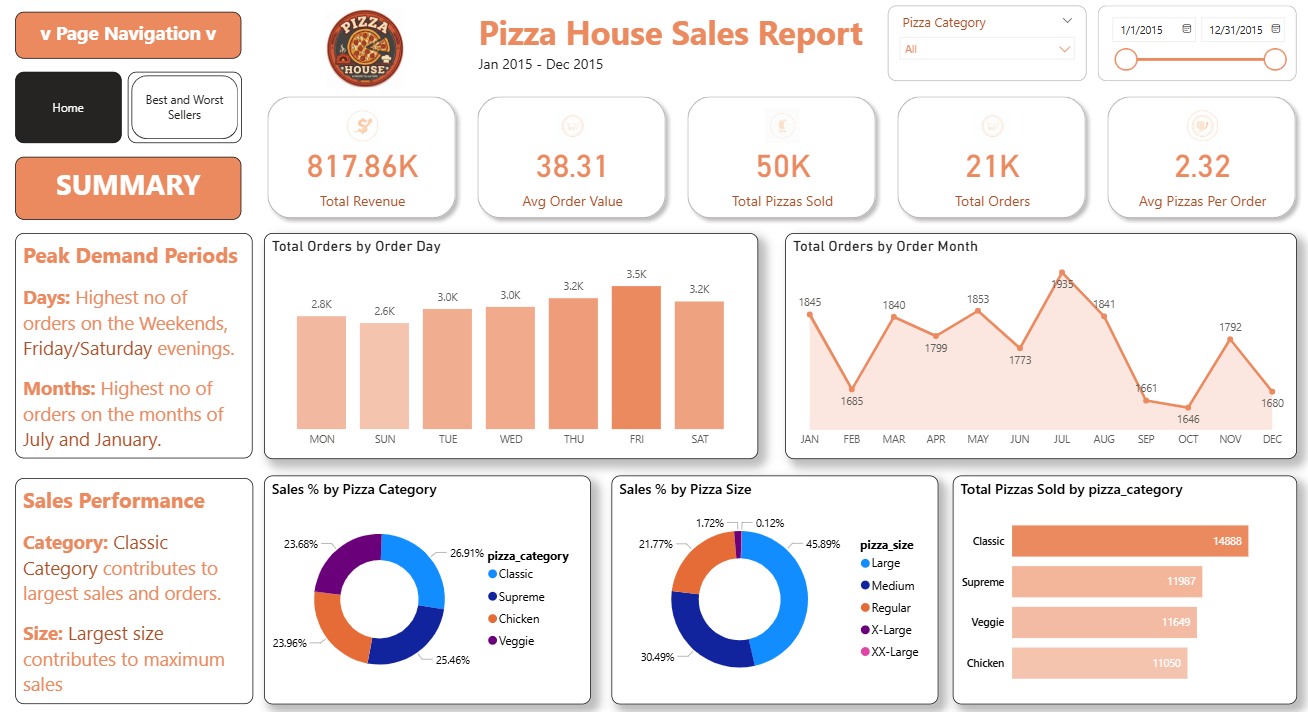

The page's visual inventory and layout, read from the dashboard file:
{"tool":"powerbi","page":{"name":"Home","canvas":[1500,820],"ordinal":0},"visuals":[{"type":"cardVisual","fields":{"Data":["pizza_sales.Total Revenue","pizza_sales.Avg Order Value","pizza_sales.Total Pizzas Sold","pizza_sales.Total Orders","pizza_sales.Avg Pizzas Per Order"]},"box":[290,95,1210,173.8],"z":0},{"type":"columnChart","fields":{"Category":["pizza_sales.Order Day"],"Y":["pizza_sales.Total Orders"]},"box":[303.3,268.7,565,258.3],"z":1000},{"type":"areaChart","fields":{"Y":["pizza_sales.Total Orders"],"Category":["pizza_sales.Order Month"]},"box":[898.3,268.7,585,258.3],"z":2000},{"type":"donutChart","title":"Sales % by Pizza Category","fields":{"Category":["pizza_sales.pizza_category"],"Y":["pizza_sales.Total Revenue"]},"box":[303.3,545,373.3,261.7],"z":3000},{"type":"donutChart","title":"Sales % by Pizza Size","fields":{"Y":["pizza_sales.Total Revenue"],"Category":["pizza_sales.pizza_size"]},"box":[700,545,373.3,261.7],"z":4000},{"type":"barChart","fields":{"Category":["pizza_sales.pizza_category"],"Y":["pizza_sales.Total Pizzas Sold"]},"box":[1090,545,393.3,261.7],"z":5000},{"type":"slicer","fields":{"Values":["pizza_sales.pizza_category"]},"box":[1016.2,8.8,227.5,86.2],"z":6000},{"type":"slicer","fields":{"Values":["pizza_sales.order_date"]},"box":[1256.2,8.8,227.5,86.2],"z":7000},{"type":"textbox","box":[543.3,8.3,455,86.7],"z":8000},{"type":"image","box":[315,8.3,205,98.3],"z":9000},{"type":"textbox","box":[18.3,181.7,258.3,71.7],"z":10000},{"type":"textbox","box":[18.9,268.9,271.1,257.8],"z":11000},{"type":"textbox","box":[18.3,548.3,271.7,258.3],"z":12000},{"type":"textbox","box":[18.8,16.2,258.8,53.8],"z":12500},{"type":"pageNavigator","box":[18.8,83.8,121.2,81.2],"z":13000},{"type":"pageNavigator","box":[147.5,83.8,130,81.2],"z":15000}]}

Visuals, with their boxes in screenshot pixels (x1, y1, x2, y2), scaled from the page's 1500x820 canvas onto the 1308x712 screenshot:
cardVisual - pizza_sales.Total Revenue x pizza_sales.Avg Order Value: (253, 82, 1307, 233)
columnChart - pizza_sales.Order Day x pizza_sales.Total Orders: (264, 233, 757, 458)
areaChart - pizza_sales.Total Orders x pizza_sales.Order Month: (783, 233, 1293, 458)
"Sales % by Pizza Category" donutChart: (264, 473, 590, 700)
"Sales % by Pizza Size" donutChart: (610, 473, 936, 700)
barChart - pizza_sales.pizza_category x pizza_sales.Total Pizzas Sold: (950, 473, 1293, 700)
slicer - pizza_sales.pizza_category: (886, 8, 1085, 82)
slicer - pizza_sales.order_date: (1095, 8, 1294, 82)
textbox: (474, 7, 871, 82)
image: (275, 7, 453, 93)
textbox: (16, 158, 241, 220)
textbox: (16, 233, 253, 457)
textbox: (16, 476, 253, 700)
textbox: (16, 14, 242, 61)
pageNavigator: (16, 73, 122, 143)
pageNavigator: (129, 73, 242, 143)
